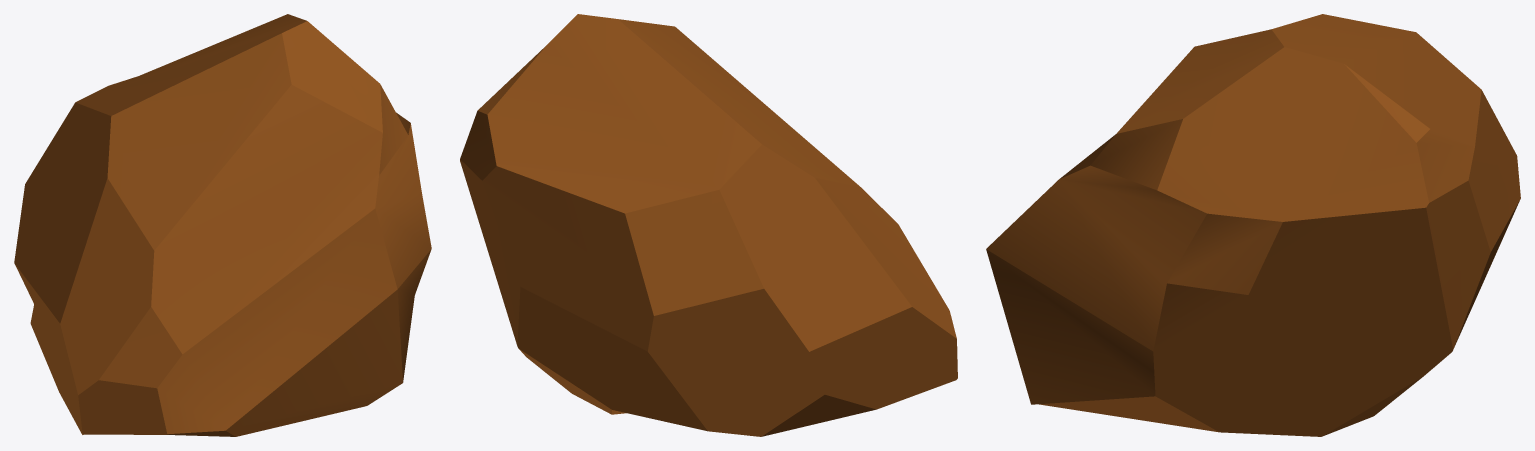
The model's file is HardRock_36.fbx.
3 renders of one model, left to right at view 1: azimuth 30°, elevation 25°; view 2: azimuth 150°, elevation 25°; view 3: azimuth 270°, elevation 25°, orthographic. The views are drawn at different scales.
Visible parts, largest first — view 1: HardRock_36; view 2: HardRock_36; view 3: HardRock_36.
Boxes of the visible parts, <box> form: HardRock_36: <box>14,14,431,436</box>; HardRock_36: <box>460,14,957,436</box>; HardRock_36: <box>986,14,1520,436</box>.
Size of the model in its own units: 67.47 by 54.56 by 67.77.
